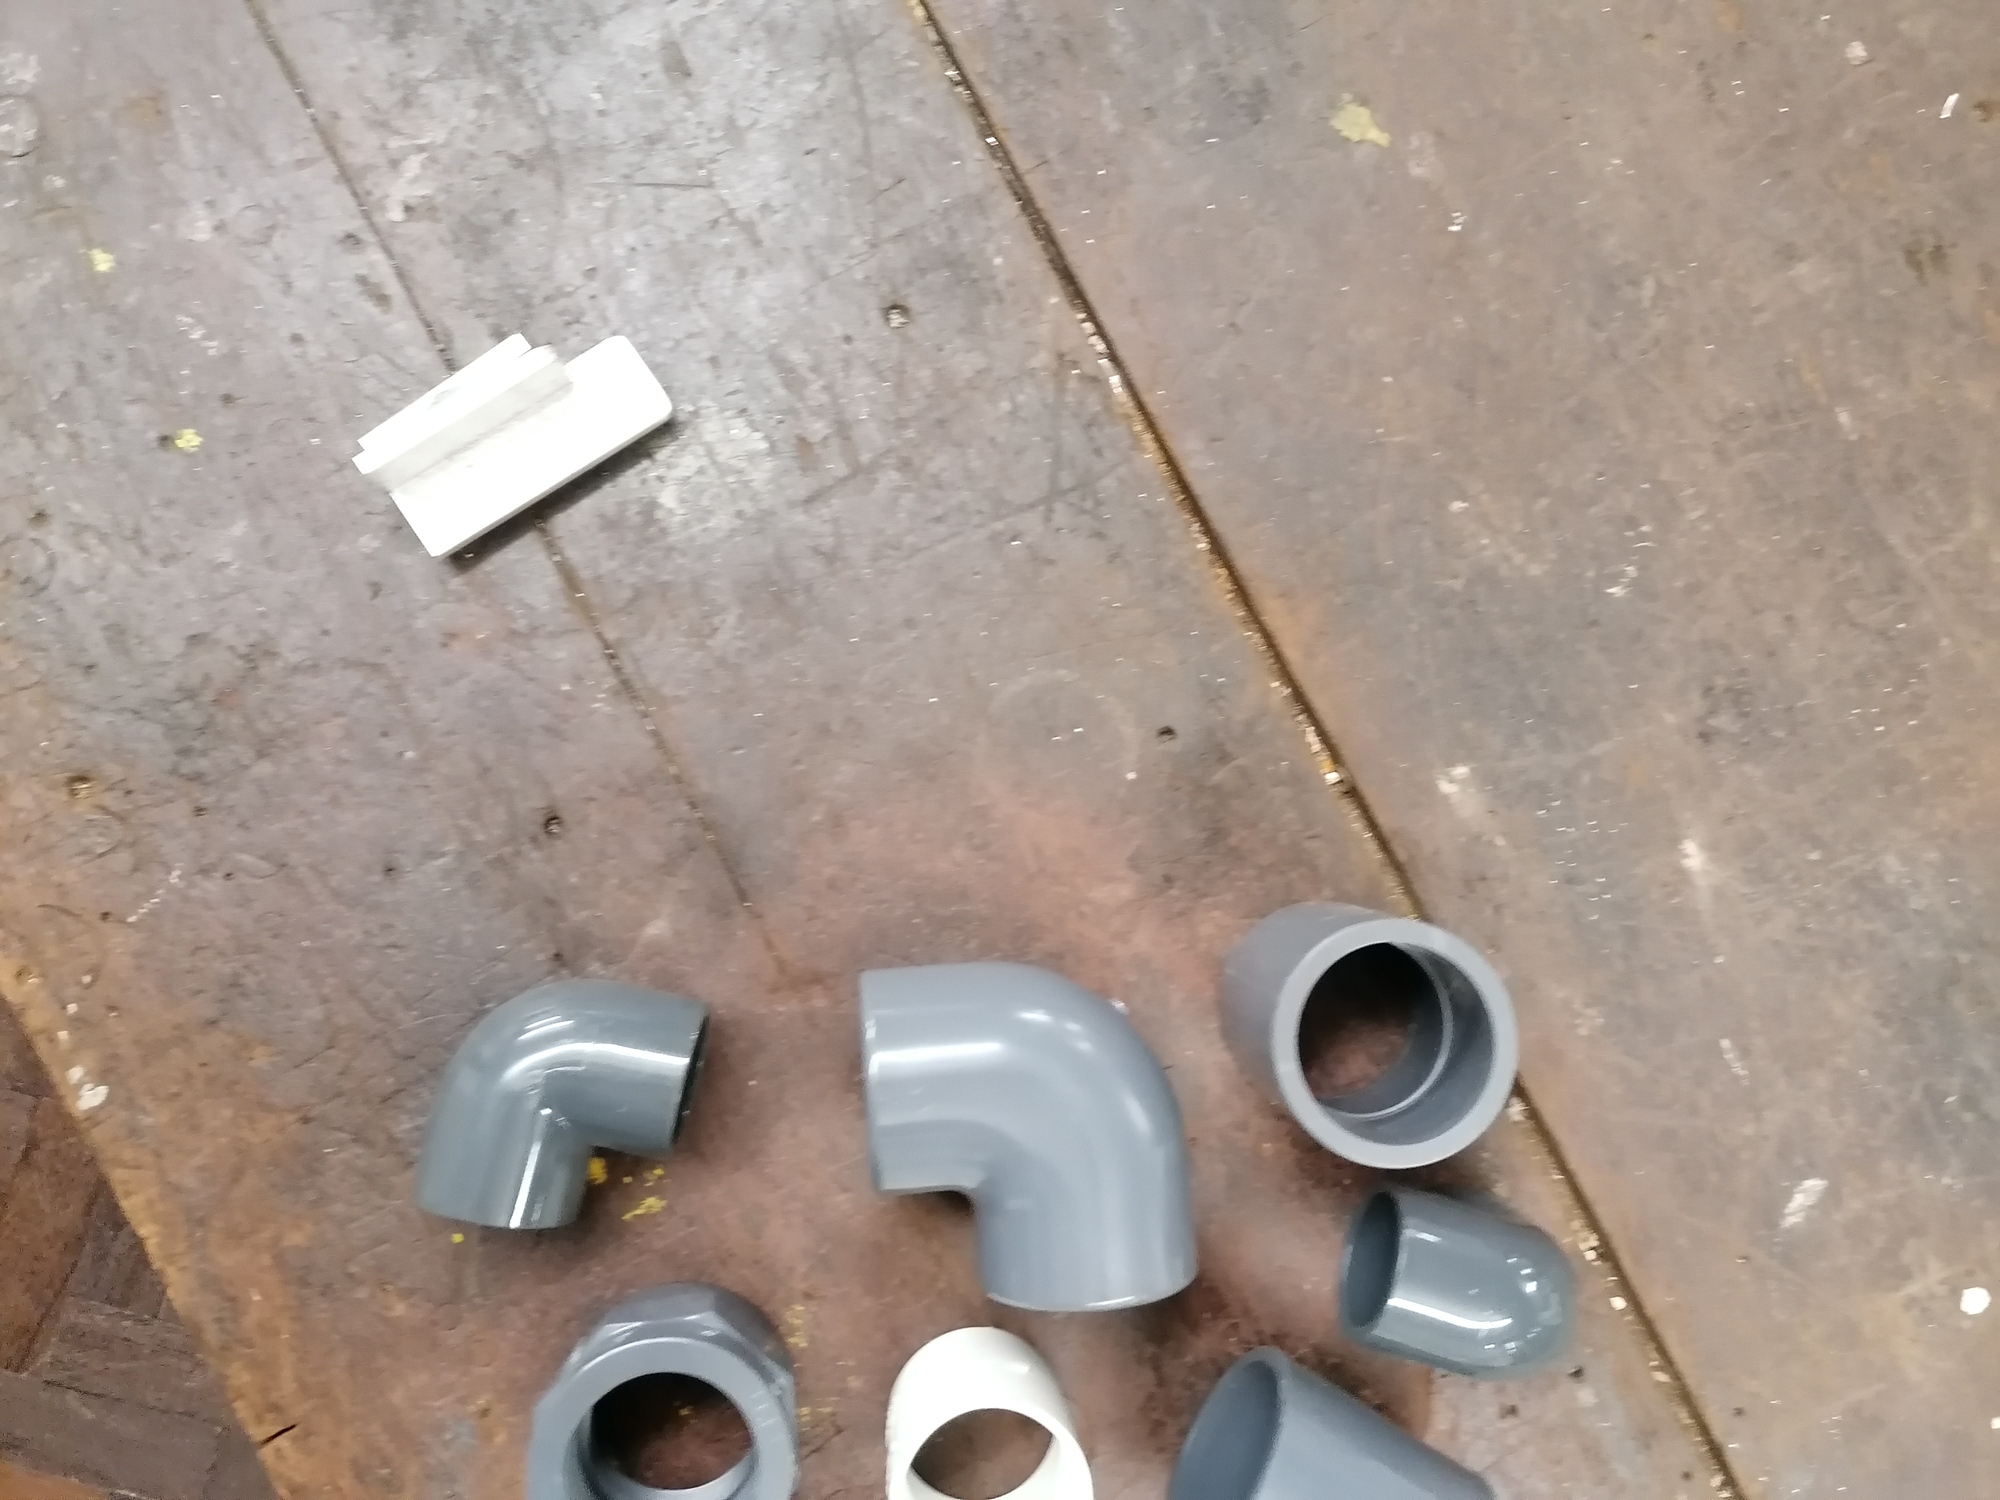nut: (521, 1279, 798, 1498)
pipe: (850, 956, 1200, 1312), (1217, 893, 1520, 1168), (414, 971, 713, 1238), (1153, 1344, 1498, 1498), (1335, 1182, 1576, 1387), (879, 1322, 1096, 1500)
